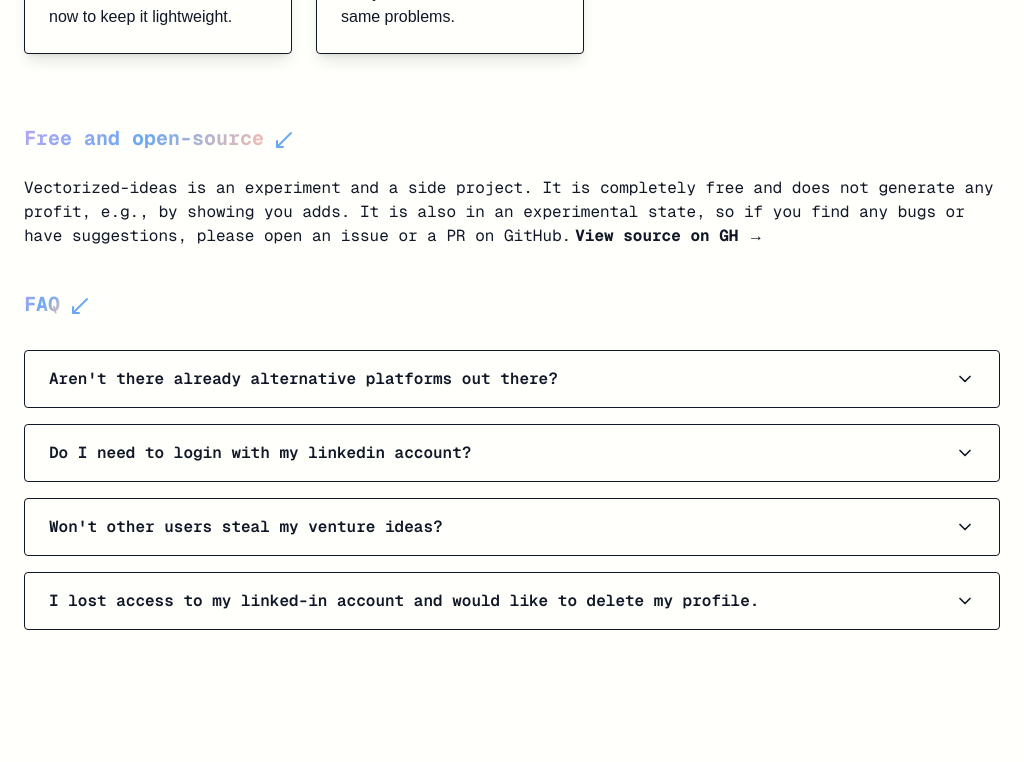
it: LandingPage › should expand and collapse FAQ items
The width and height of the screenshot is (1024, 762).
(page scrolled)
Check: the text "Yes, but we found it hard to find people" is not shown
# Click to expand
Click the button "Aren't there already alternative platforms out there?" at (512, 378), box [25,350,999,406]
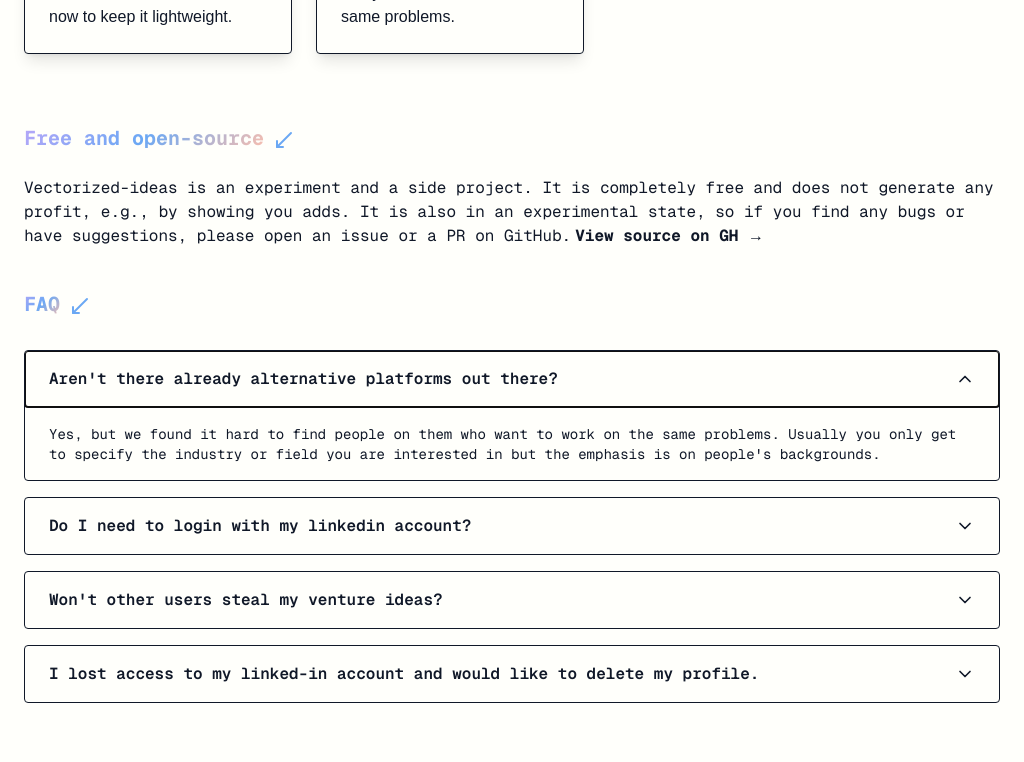
Check: the text "Yes, but we found it hard to find people" is shown, box [49,424,956,462]
# Click again to collapse
Click the button "Aren't there already alternative platforms out there?" at (512, 378), box [25,350,999,406]
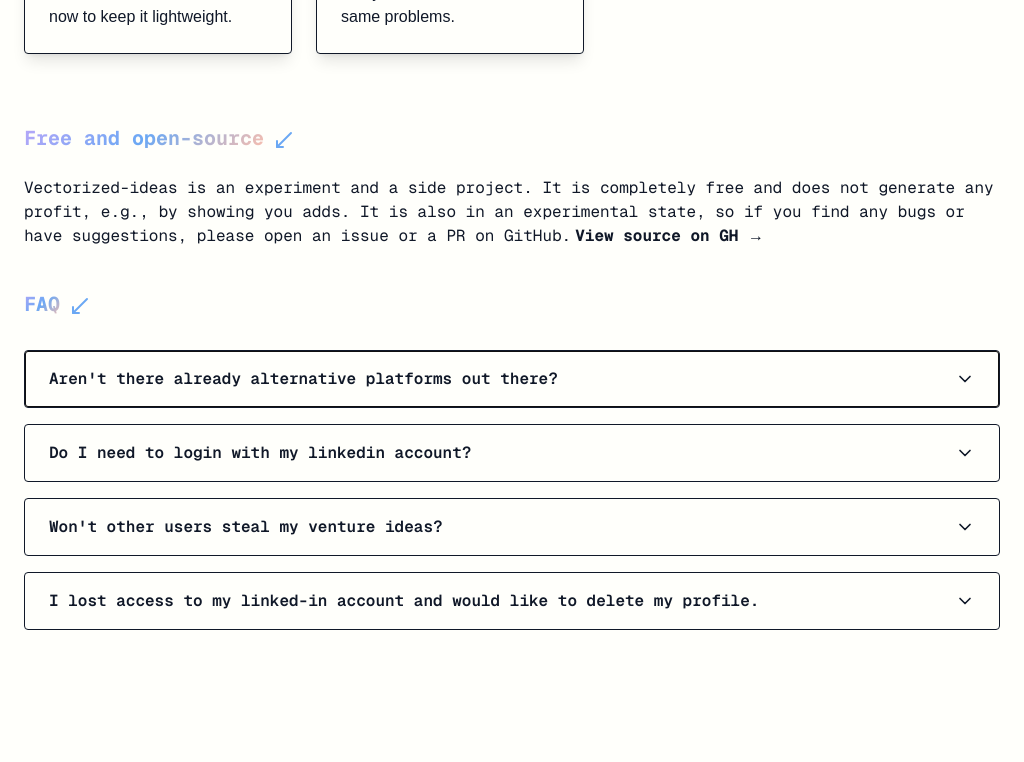
Check: the text "Yes, but we found it hard to find people" is gone
